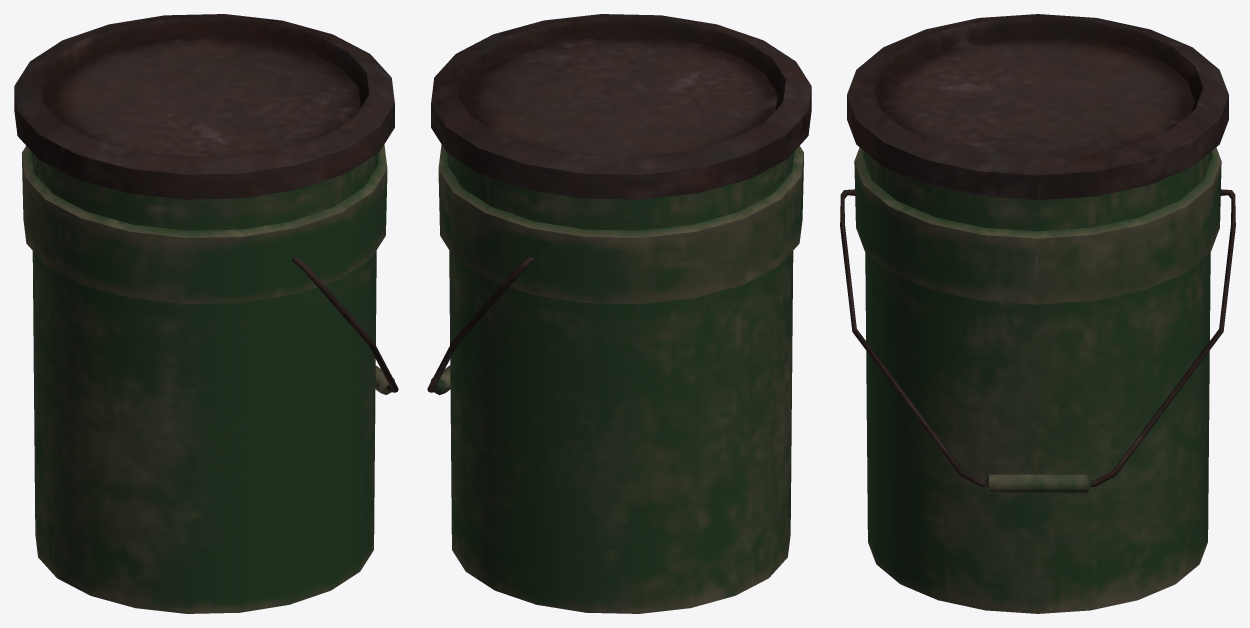
The model's file is SM_Bucket_Small.fbx.
3 views of the same model, side by side, from view 1: azimuth 30°, elevation 25°; view 2: azimuth 150°, elevation 25°; view 3: azimuth 270°, elevation 25° (orthographic).
Visible parts, largest first — view 1: SM_Bucket_Small; view 2: SM_Bucket_Small; view 3: SM_Bucket_Small.
Part boxes in pixels (left/top/right/bottom): SM_Bucket_Small: left=14, top=14, right=398, bottom=613; SM_Bucket_Small: left=427, top=14, right=811, bottom=613; SM_Bucket_Small: left=840, top=14, right=1235, bottom=613.
Bounding box in the file's own units: 30.12 × 39.38 × 31.08.
1 material, 1 textured.
